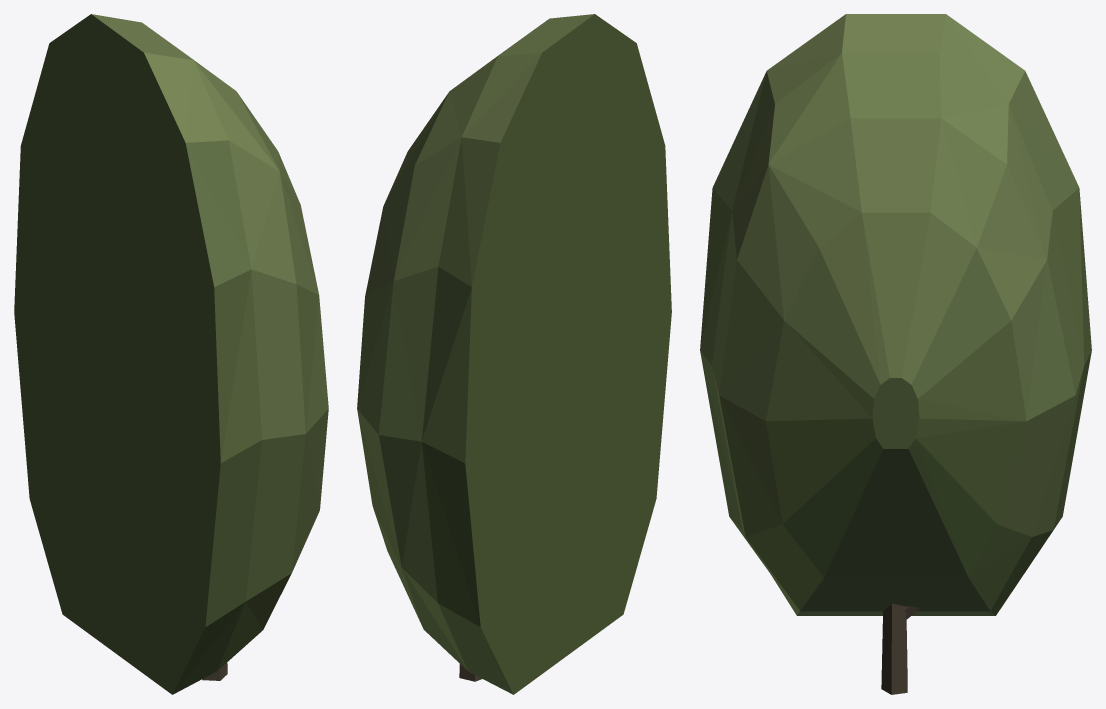
The model's file is lwf_hedge_end_cap_v1.glb.
The picture shows the model from 3 angles, left to right: view 1: azimuth 30°, elevation 25°; view 2: azimuth 150°, elevation 25°; view 3: azimuth 270°, elevation 25°; orthographic projection. The views are drawn at different scales.
Visible parts, largest first — view 1: lwf_hedge_end_cap_v1; view 2: lwf_hedge_end_cap_v1; view 3: lwf_hedge_end_cap_v1.
Part boxes in pixels (left/top/right/bottom): lwf_hedge_end_cap_v1: left=14, top=14, right=328, bottom=694; lwf_hedge_end_cap_v1: left=357, top=14, right=671, bottom=694; lwf_hedge_end_cap_v1: left=700, top=14, right=1091, bottom=694.
Size of the model in its own units: 0.5 by 1.67 by 0.94.
1 material, 1 textured.
